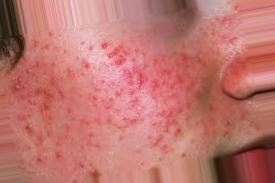Acne: (1, 37, 230, 160)
